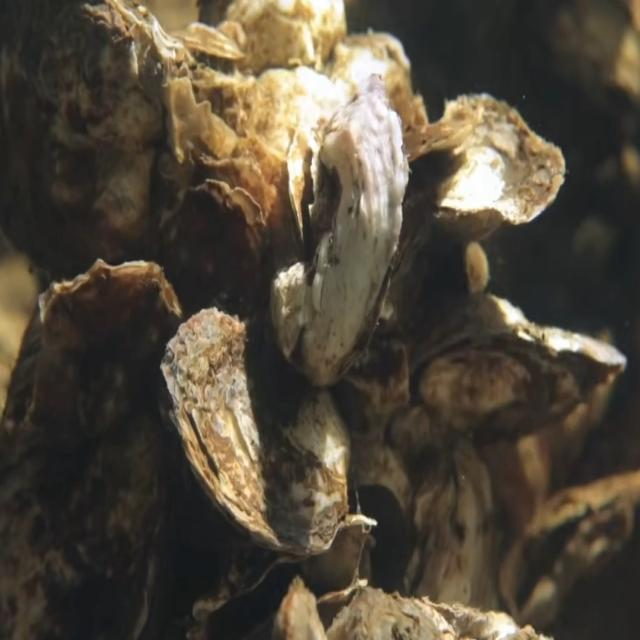Oyster-Closed: (0, 258, 184, 640), (154, 305, 354, 558), (268, 74, 408, 390), (410, 292, 640, 449), (388, 94, 568, 286), (402, 433, 503, 640)
Oyster-Indeterminate: (0, 0, 215, 284), (151, 178, 271, 330)
Oyster-Open: (191, 513, 377, 640), (501, 471, 640, 639)
